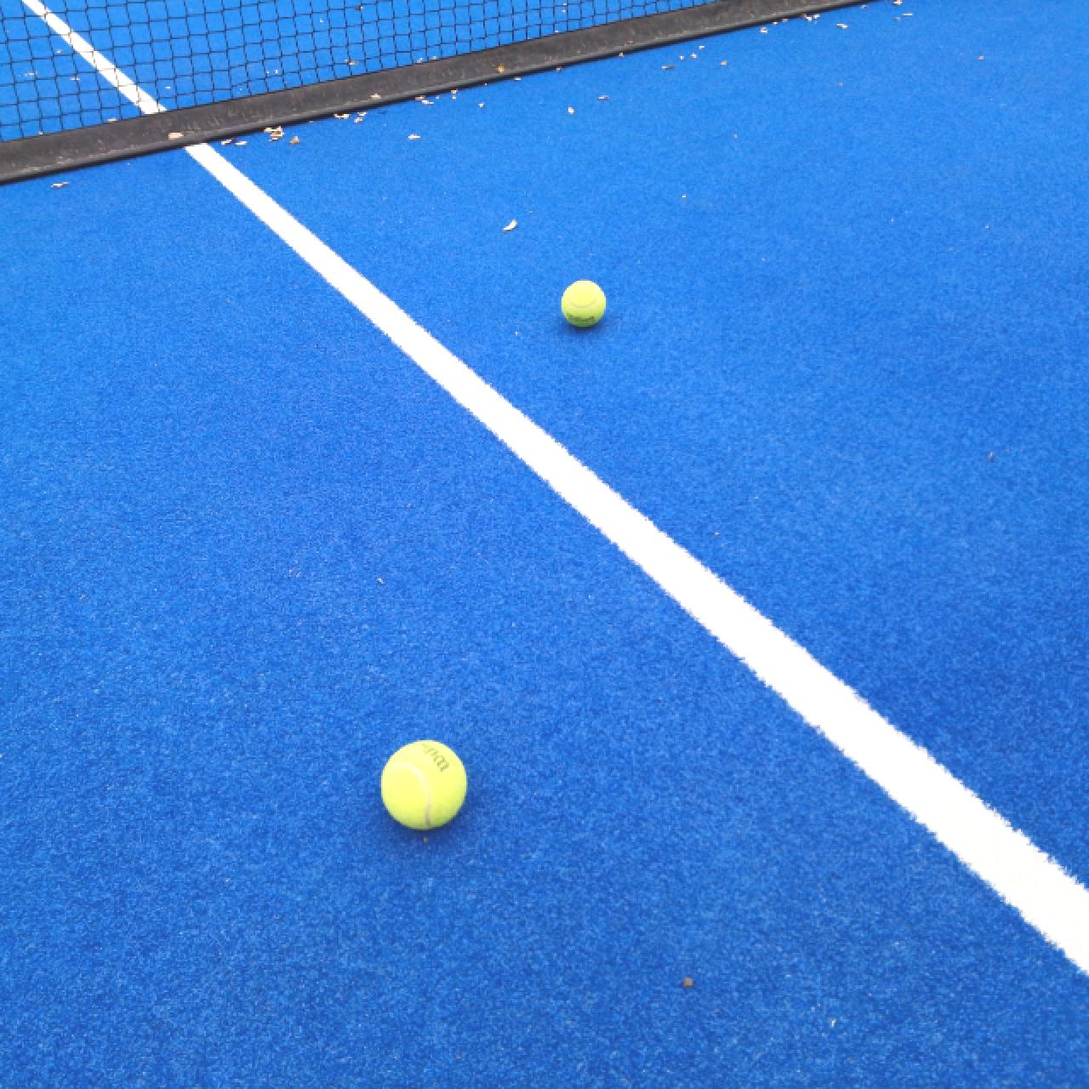tennis-ball: (380, 741, 467, 831), (563, 280, 608, 328)
